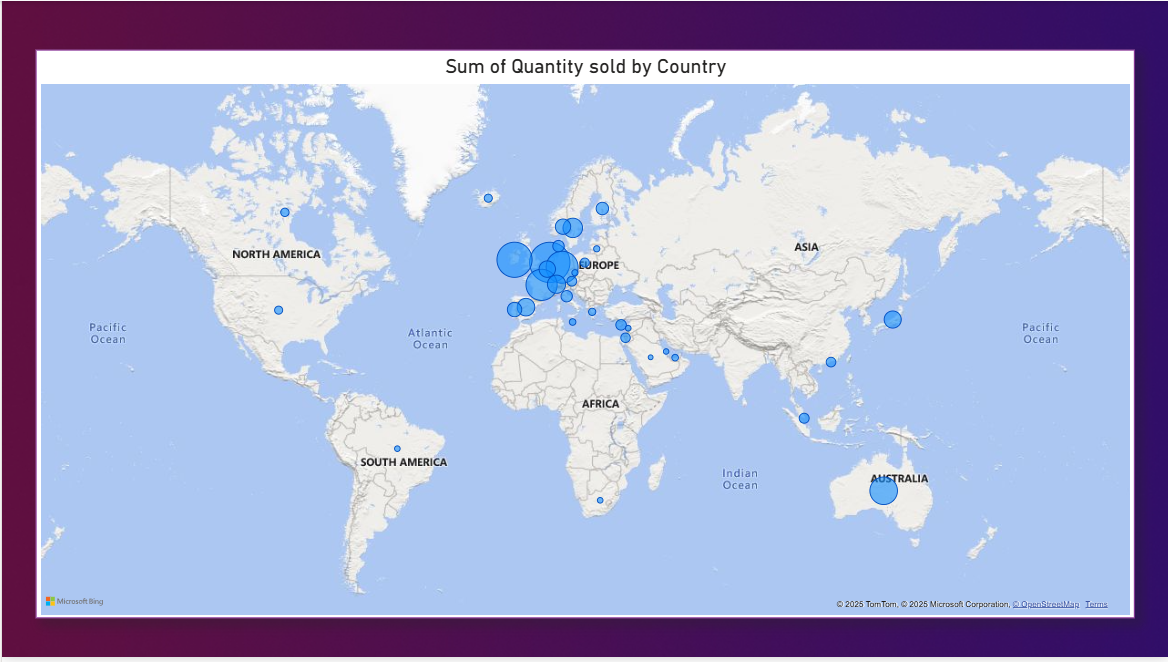

The dashboard page shown, as its layout file describes it:
{"tool":"powerbi","page":{"name":"Q4","canvas":[1280,720],"ordinal":3},"visuals":[{"type":"map","title":"Sum of Quantity sold by Country","fields":{"Category":["Online Retail (3).Country"],"Size":["Sum(Online Retail (3).Total_Qty_Sold)"]},"box":[37,53.5,1206.2,624.4],"z":0}]}

Visuals, with their boxes in screenshot pixels (x1, y1, x2, y2), scaled from the page's 1280x720 canvas onto the 1168x662 screenshot:
"Sum of Quantity sold by Country" map: x1=34, y1=49, x2=1134, y2=623
